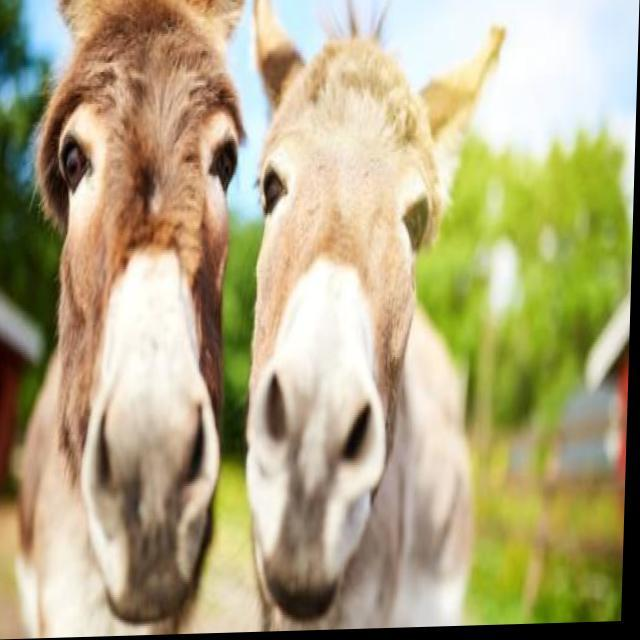Donkey: (240, 0, 507, 634), (15, 0, 248, 639)
